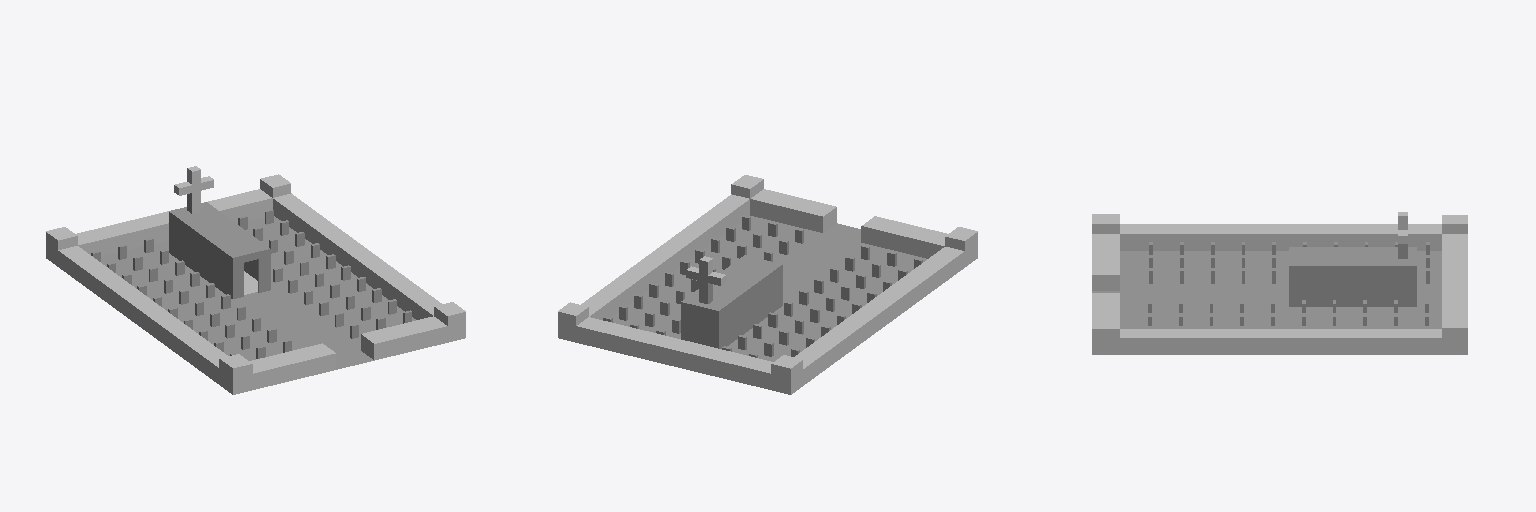
Rendered from graveyard.obj.
3 views of the same model, side by side, from view 1: azimuth 30°, elevation 25°; view 2: azimuth 150°, elevation 25°; view 3: azimuth 270°, elevation 25° (orthographic).
Parts seen in each view (by area): view 1: SketchUp.104_ID846, SketchUp.113_ID933, SketchUp.105_ID859, SketchUp.110_ID904; view 2: SketchUp.104_ID846, SketchUp.113_ID933, SketchUp.105_ID859, SketchUp.107_ID880; view 3: SketchUp.104_ID846, SketchUp.113_ID933, SketchUp.105_ID859.
Part boxes in pixels (left/top/right/bottom): SketchUp.104_ID846: left=46, top=174, right=465, bottom=394; SketchUp.113_ID933: left=101, top=216, right=415, bottom=369; SketchUp.105_ID859: left=169, top=202, right=270, bottom=298; SketchUp.110_ID904: left=179, top=170, right=213, bottom=213; SketchUp.104_ID846: left=558, top=175, right=977, bottom=394; SketchUp.113_ID933: left=611, top=216, right=926, bottom=361; SketchUp.105_ID859: left=681, top=255, right=782, bottom=348; SketchUp.107_ID880: left=686, top=260, right=720, bottom=303; SketchUp.104_ID846: left=1092, top=214, right=1467, bottom=354; SketchUp.113_ID933: left=1092, top=251, right=1441, bottom=328; SketchUp.105_ID859: left=1289, top=247, right=1416, bottom=306.
Size of the model in its own units: 429 by 148 by 598.